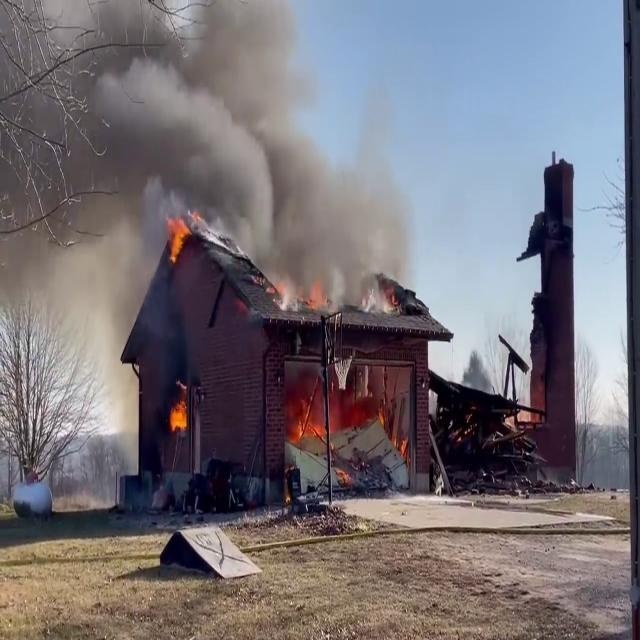Fire: (284, 382, 332, 452), (166, 210, 192, 265), (168, 385, 191, 439)
Smoke: (79, 0, 418, 312)
